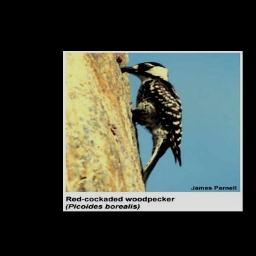Woodpecker: (116, 61, 187, 184)
